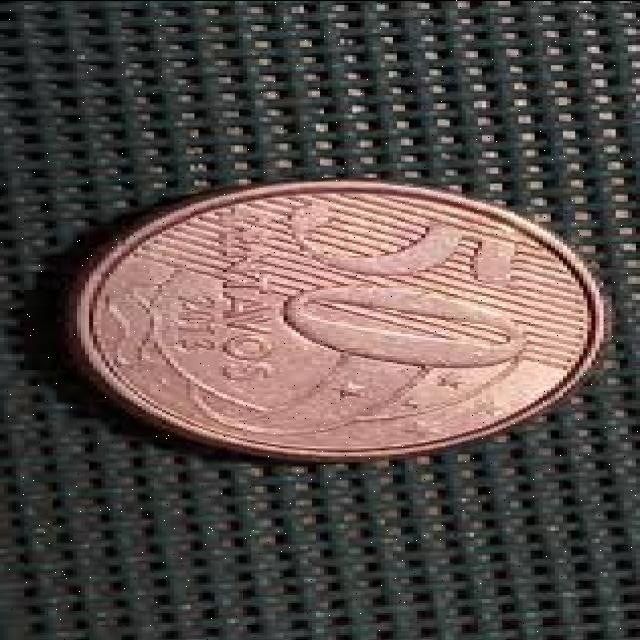50 cent: (75, 179, 611, 461)
